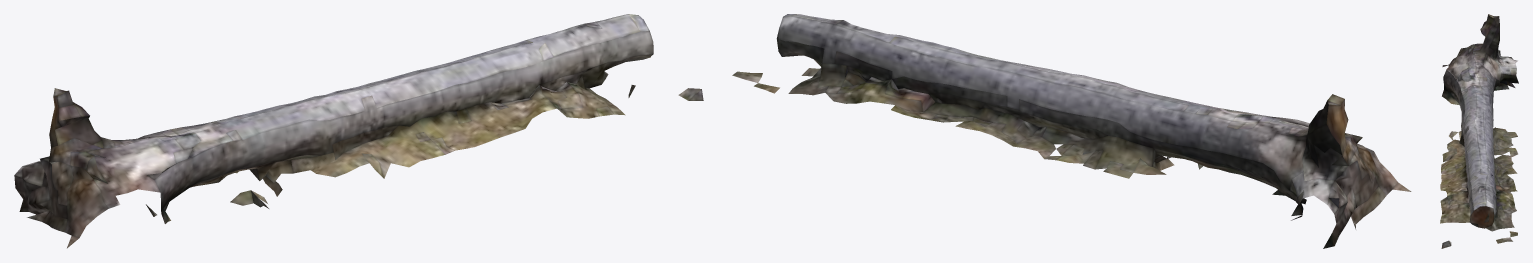
The model's file is pinho.glb.
The picture shows the model from 3 angles, left to right: view 1: azimuth 30°, elevation 25°; view 2: azimuth 150°, elevation 25°; view 3: azimuth 270°, elevation 25°; orthographic projection. The views are drawn at different scales.
Visible parts, largest first — view 1: pinho; view 2: pinho; view 3: pinho.
Boxes of the visible parts, <box> form: pinho: <box>14,14,703,248</box>; pinho: <box>732,14,1411,248</box>; pinho: <box>1440,14,1518,248</box>.
Bounding box in the file's own units: 10 × 2.06 × 1.9.
1 material, 1 textured.
